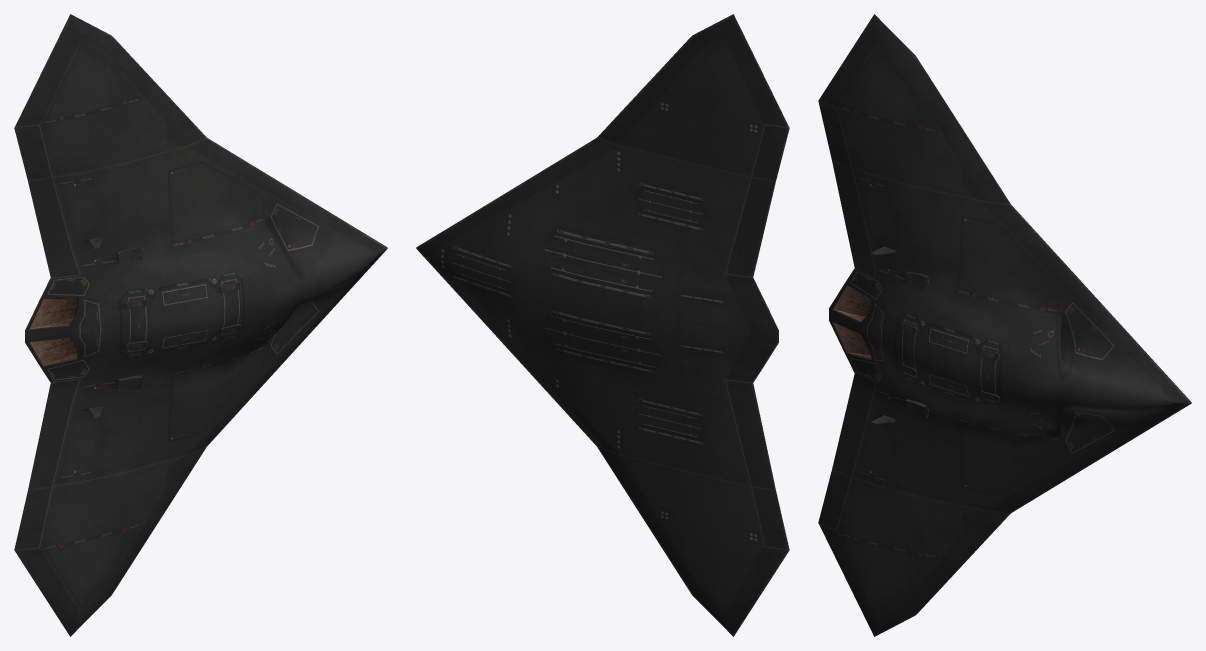
The model's file is veh_t6_drone_pegasus_mp_LOD0.obj.
The picture shows the model from 3 angles, left to right: view 1: azimuth 30°, elevation 25°; view 2: azimuth 150°, elevation 25°; view 3: azimuth 330°, elevation 25°; orthographic projection.
Visible parts, largest first — view 1: mtl_veh_t6_pegasus_body; view 2: mtl_veh_t6_pegasus_body; view 3: mtl_veh_t6_pegasus_body.
Boxes of the visible parts, box(x1,y1,x2,y2) form: mtl_veh_t6_pegasus_body: box(14, 14, 387, 636); mtl_veh_t6_pegasus_body: box(416, 14, 789, 636); mtl_veh_t6_pegasus_body: box(818, 14, 1191, 636).
Size of the model in its own units: 711 by 1134 by 125.
